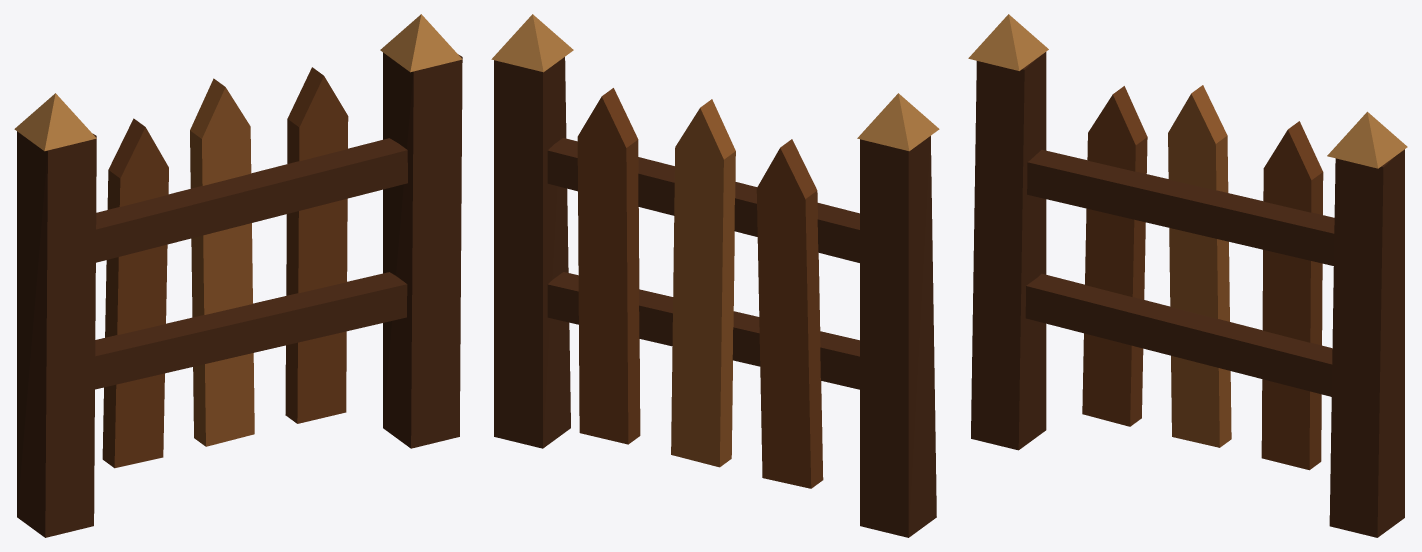
File: fence_straight_1_5m.obj
3 views of the same model, side by side, from view 1: azimuth 30°, elevation 25°; view 2: azimuth 150°, elevation 25°; view 3: azimuth 330°, elevation 25° (orthographic).
Parts seen in each view (by area): view 1: post_left_shaft, post_right_shaft, rail_high, rail_low, picket_2, picket_3, picket_1, post_right_cap, post_left_cap; view 2: post_left_shaft, post_right_shaft, picket_2, picket_3, picket_1, rail_high, rail_low, post_right_cap, post_left_cap; view 3: post_right_shaft, post_left_shaft, rail_low, rail_high, picket_2, picket_3, picket_1, post_right_cap, post_left_cap.
Part boxes in pixels (x1=…): post_left_shaft: x1=17, y1=131, x2=96, y2=537; post_right_shaft: x1=383, y1=52, x2=462, y2=448; rail_high: x1=96, y1=138, x2=407, y2=262; rail_low: x1=95, y1=272, x2=407, y2=389; picket_2: x1=190, y1=78, x2=254, y2=446; picket_3: x1=285, y1=67, x2=348, y2=423; picket_1: x1=102, y1=118, x2=168, y2=468; post_right_cap: x1=380, y1=14, x2=462, y2=72; post_left_cap: x1=14, y1=93, x2=96, y2=151; post_left_shaft: x1=860, y1=136, x2=936, y2=537; post_right_shaft: x1=494, y1=57, x2=570, y2=448; picket_2: x1=671, y1=99, x2=735, y2=467; picket_3: x1=577, y1=88, x2=640, y2=444; picket_1: x1=756, y1=139, x2=823, y2=488; rail_high: x1=547, y1=138, x2=859, y2=262; rail_low: x1=547, y1=272, x2=859, y2=389; post_right_cap: x1=491, y1=14, x2=573, y2=72; post_left_cap: x1=857, y1=93, x2=939, y2=151; post_right_shaft: x1=1329, y1=149, x2=1404, y2=537; post_left_shaft: x1=971, y1=52, x2=1046, y2=450; rail_low: x1=1025, y1=273, x2=1332, y2=396; rail_high: x1=1027, y1=149, x2=1334, y2=265; picket_2: x1=1168, y1=85, x2=1231, y2=447; picket_3: x1=1261, y1=121, x2=1323, y2=470; picket_1: x1=1082, y1=86, x2=1147, y2=426; post_right_cap: x1=1327, y1=111, x2=1407, y2=168; post_left_cap: x1=968, y1=14, x2=1048, y2=70.
Bounding box in the file's own units: 1.73 × 1.68 × 0.25.
